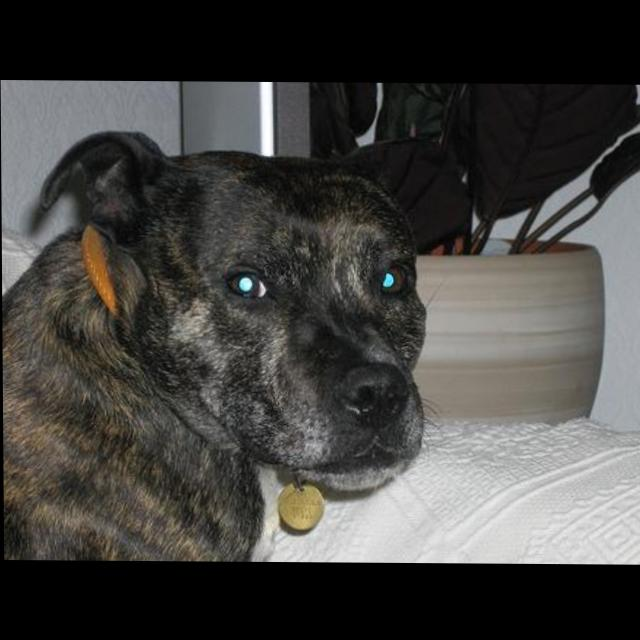staffford: (2, 129, 438, 564)
